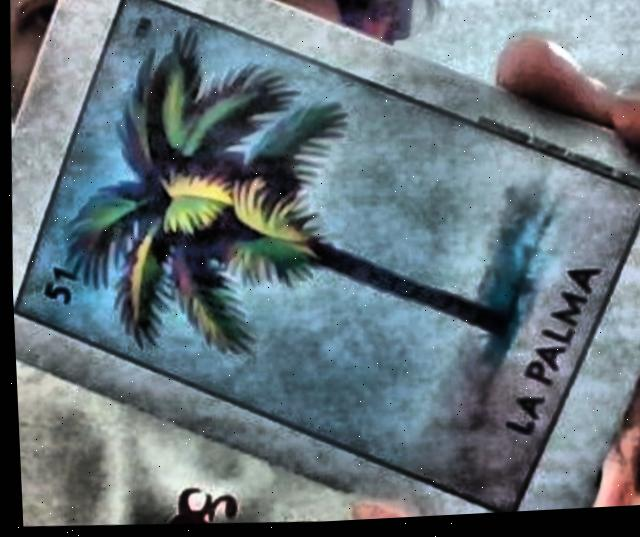La Palma: (12, 0, 640, 517)
